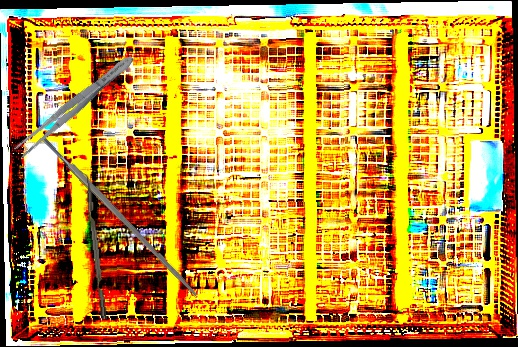Chopper: (78, 169, 107, 321)
Dressing Forceps: (12, 50, 138, 161)
Scalpel Handle: (41, 134, 200, 299)
